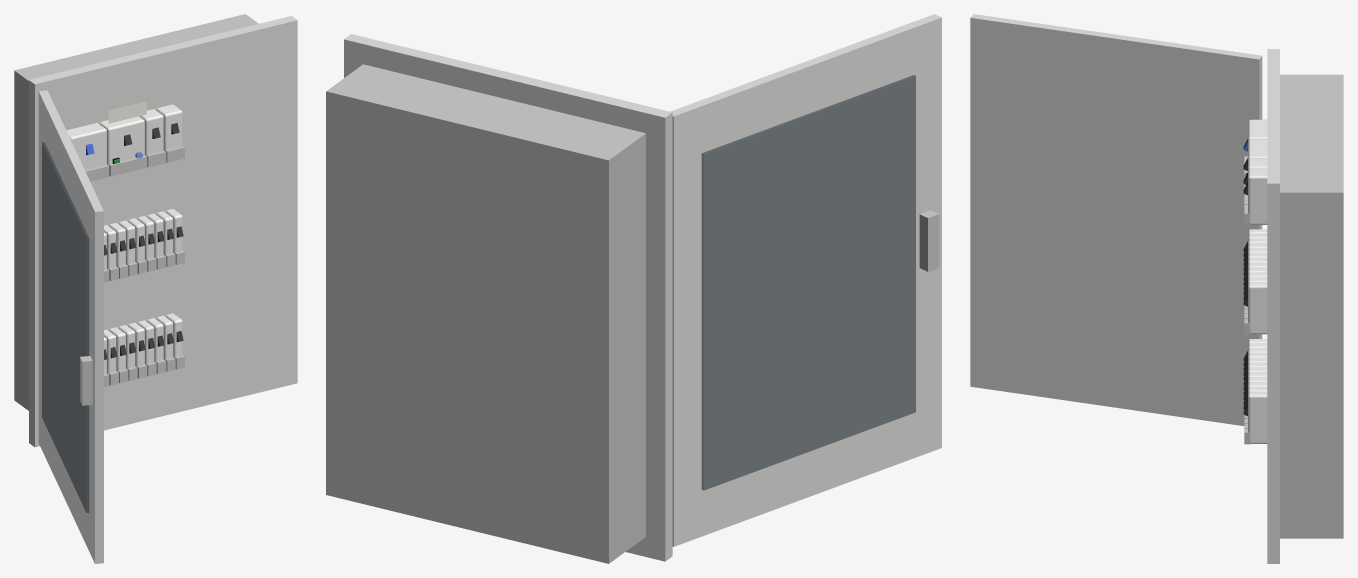
Rendered from electricPanel.glb.
3 views of the same model, side by side, from view 1: azimuth 30°, elevation 25°; view 2: azimuth 150°, elevation 25°; view 3: azimuth 270°, elevation 25° (orthographic). The views are drawn at different scales.
Visible parts, largest first — view 1: frame, doorShell, doorWindow, box, rcd, main, meterBlank, spd, doorLatch, breaker10, breaker22, labelPlate (+14 smaller); view 2: box, doorShell, doorWindow, frame, doorLatch; view 3: doorShell, box, frame, meterBlank, breaker11, breaker23.
Part boxes in pixels (<box>): frame: <box>29,16,297,447</box>; doorShell: <box>38,90,103,563</box>; doorWindow: <box>42,142,89,512</box>; box: <box>14,14,258,410</box>; rcd: <box>99,116,147,176</box>; main: <box>66,123,109,181</box>; meterBlank: <box>156,104,184,162</box>; spd: <box>139,109,166,167</box>; doorLatch: <box>80,356,92,405</box>; breaker10: <box>156,211,175,267</box>; breaker22: <box>156,315,175,371</box>; labelPlate: <box>108,101,146,123</box>; box: <box>326,64,645,563</box>; doorShell: <box>670,14,941,546</box>; doorWindow: <box>701,75,915,490</box>; frame: <box>344,34,672,561</box>; doorLatch: <box>919,210,939,271</box>; doorShell: <box>970,14,1262,425</box>; box: <box>1280,74,1343,538</box>; frame: <box>1267,49,1279,563</box>; meterBlank: <box>1244,168,1267,225</box>; breaker11: <box>1244,282,1267,334</box>; breaker23: <box>1244,392,1267,444</box>.
Size of the model in its own units: 0.6624 by 0.66 by 0.5866.
